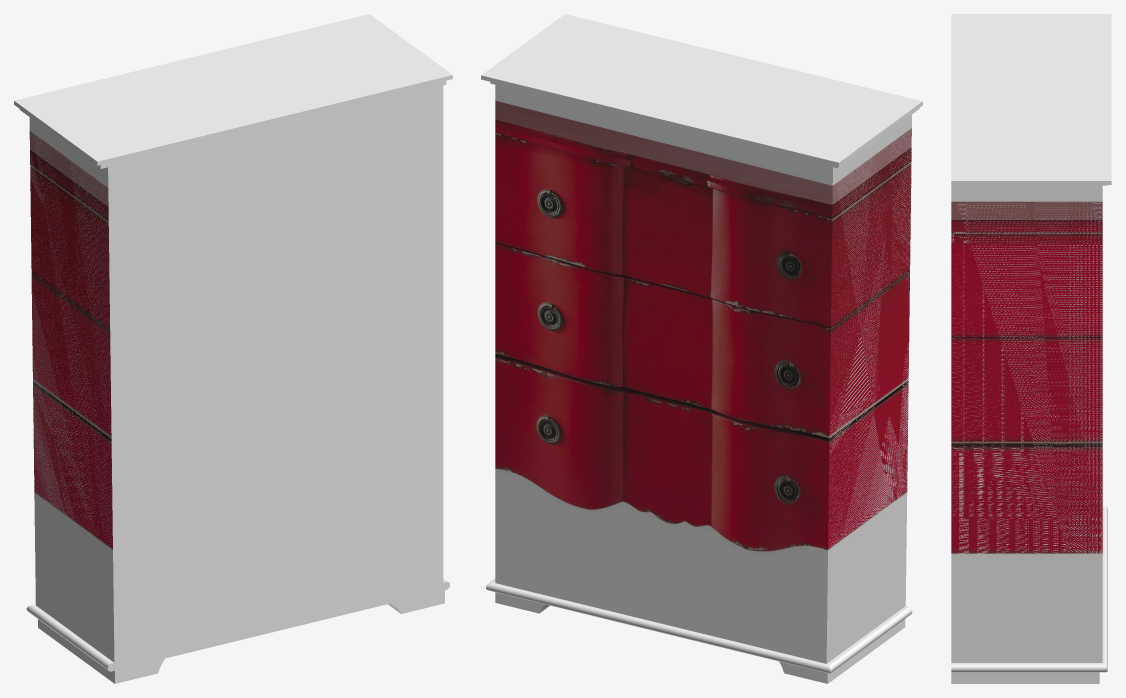
The picture shows the model from 3 angles, left to right: view 1: azimuth 30°, elevation 25°; view 2: azimuth 150°, elevation 25°; view 3: azimuth 270°, elevation 25°; orthographic projection. The views are drawn at different scales.
Visible parts, largest first — view 1: mesh1_mesh1-geometry; view 2: mesh1_mesh1-geometry; view 3: mesh1_mesh1-geometry.
Part boxes in pixels (left/top/right/bottom): mesh1_mesh1-geometry: left=14, top=14, right=452, bottom=683; mesh1_mesh1-geometry: left=481, top=14, right=922, bottom=683; mesh1_mesh1-geometry: left=951, top=14, right=1111, bottom=683.
Bounding box in the file's own units: 0.5617 × 0.7952 × 0.2281.
